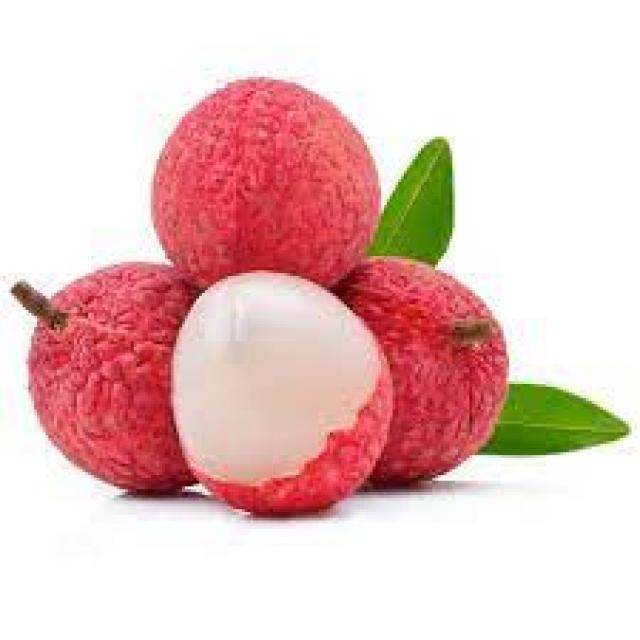lychee: (53, 82, 505, 517)
